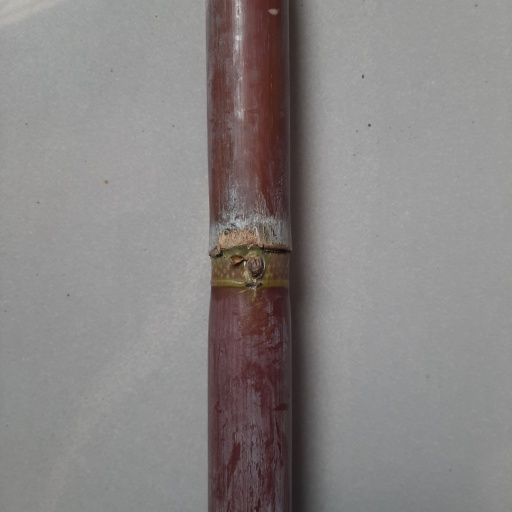Bud: (246, 254, 267, 278)
